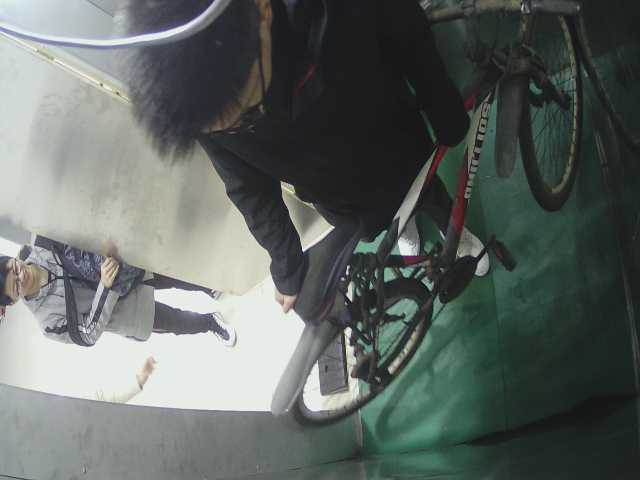bicycle: (263, 1, 587, 441)
person: (118, 1, 497, 266), (1, 227, 241, 360)
